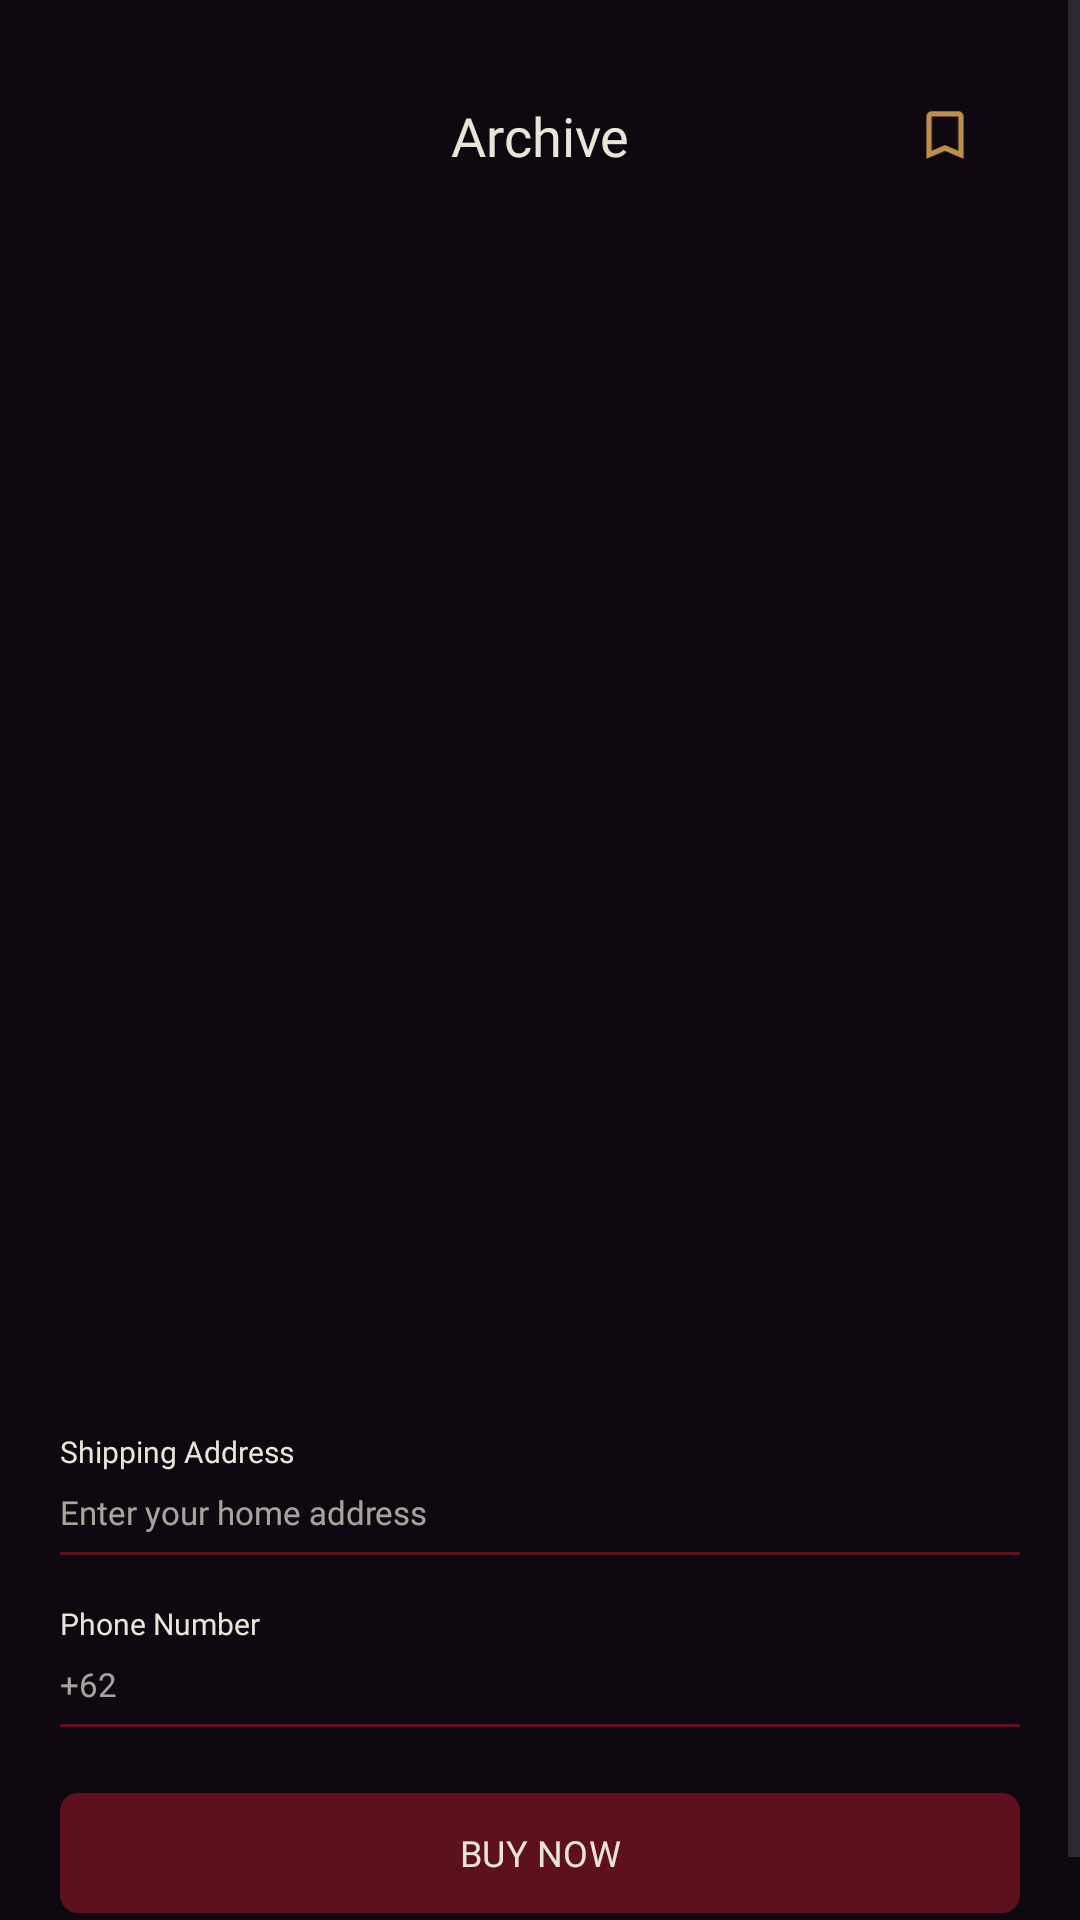

Icons on this 1080px x 1920px Android screen, each with the point to tap as [x,y]:
Bookmark: [945,135]
